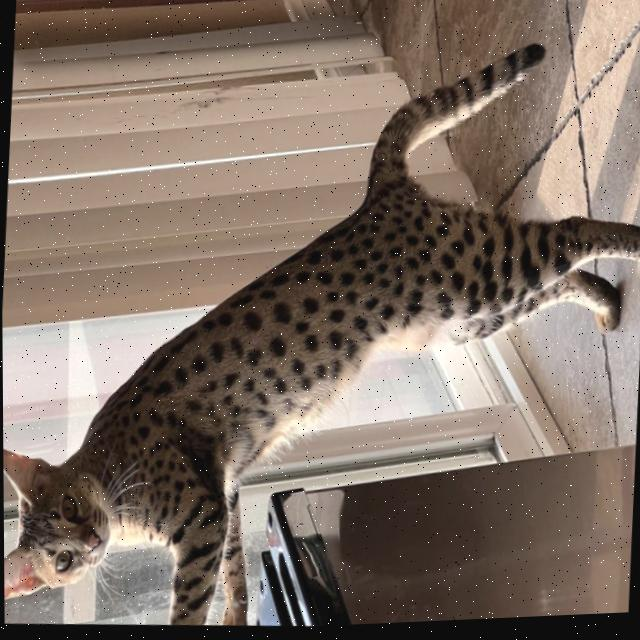Savannah: (0, 14, 640, 640)
